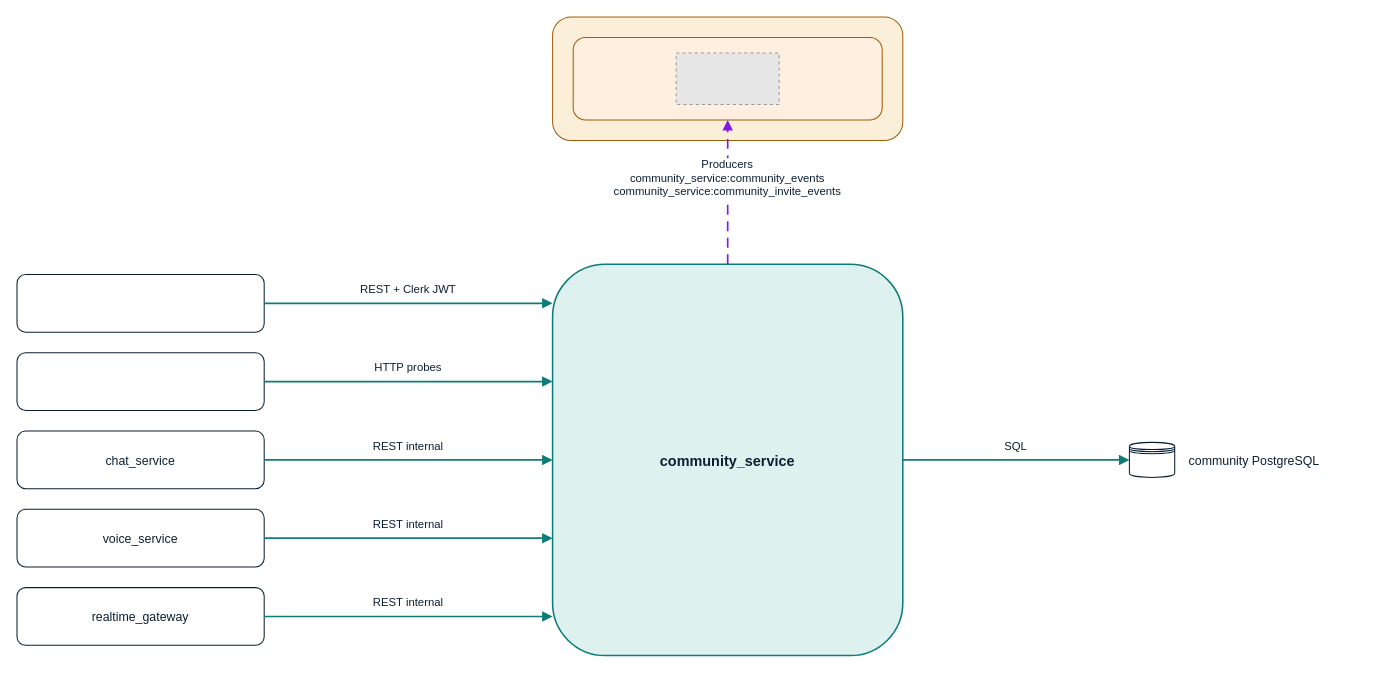
Some shapes in this 1394 by 673 pixel diagram are drawn without their labels. Grey dashed boxes stand in for pictures. The centre of each missing label's shape, as x and y in pixels:
"Container platform" belongs at (x=140, y=381).
"Platform clients" belongs at (x=140, y=302).
